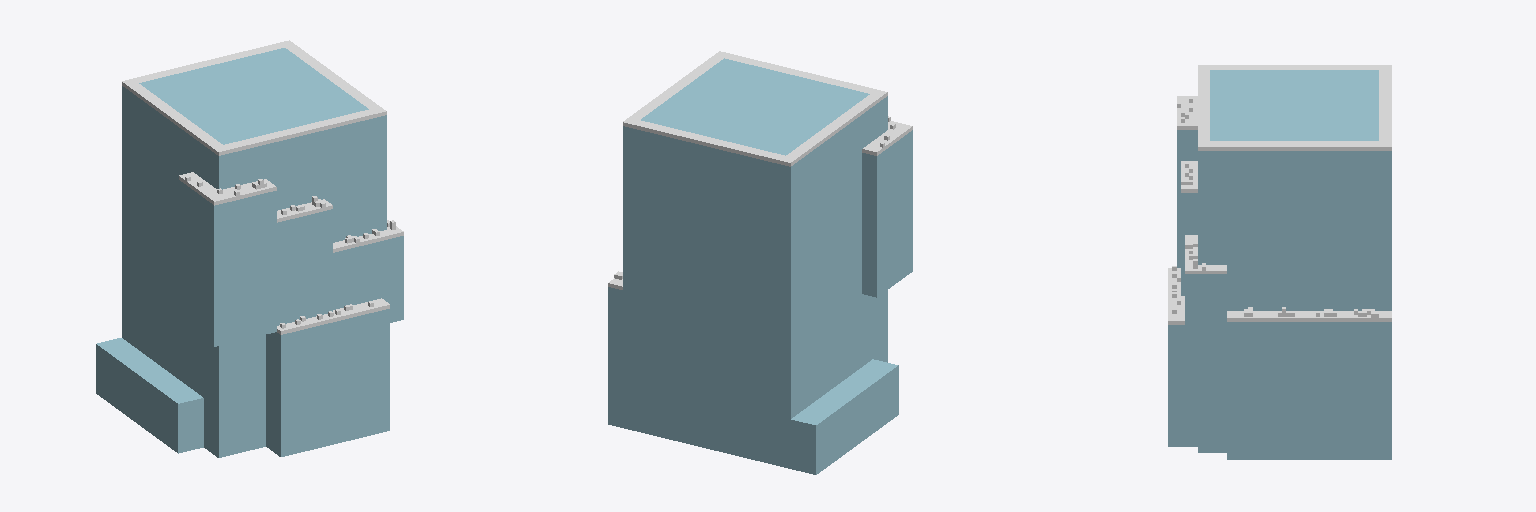
The picture shows the model from 3 angles: view 1: azimuth 30°, elevation 25°; view 2: azimuth 150°, elevation 25°; view 3: azimuth 270°, elevation 25°; orthographic projection.
Parts seen in each view (by area): view 1: object 1; view 2: object 1; view 3: object 1.
Part boxes in pixels (left/top/right/bottom): object 1: left=96, top=40, right=403, bottom=457; object 1: left=608, top=51, right=912, bottom=474; object 1: left=1168, top=65, right=1391, bottom=459.
Bounding box in the file's own units: 5.7 × 8 × 5.3.
Materials: 1 (1 with a texture image).